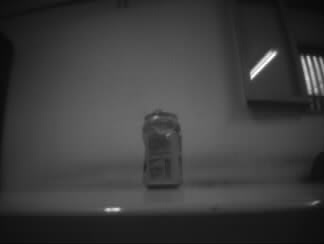Tin can: (141, 108, 184, 189)
